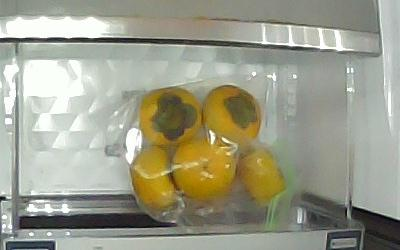persimmon_vinyl: (172, 140, 237, 202), (202, 83, 263, 146), (140, 85, 200, 147), (129, 147, 179, 212), (236, 147, 288, 205)
